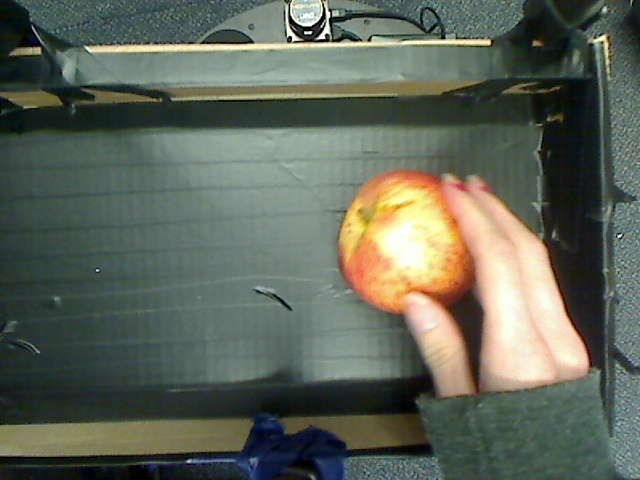apple: (320, 162, 487, 326)
